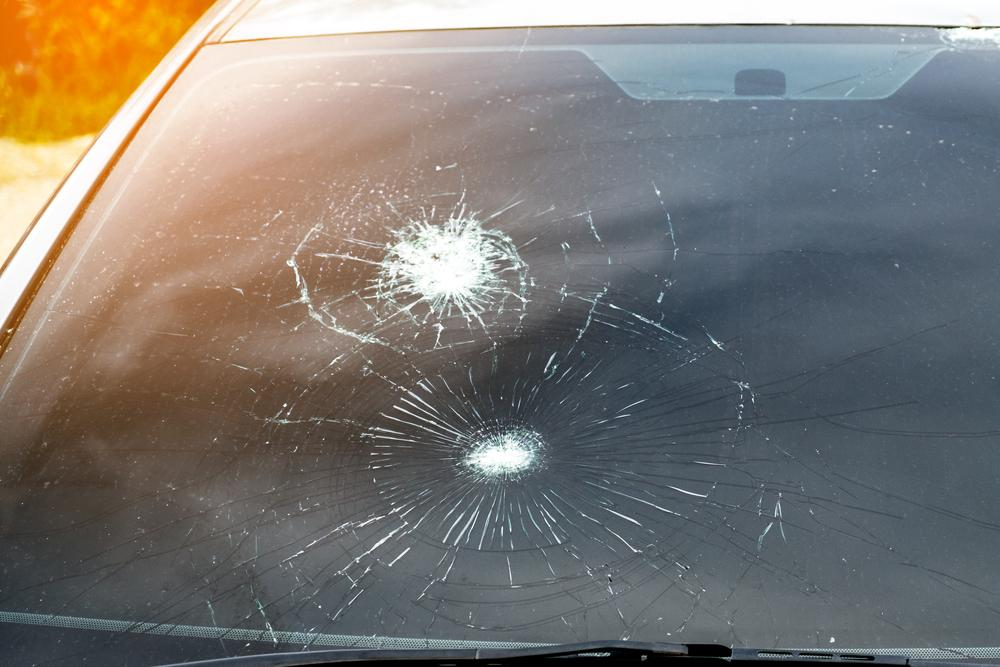glass shatter: (0, 25, 1000, 667)
